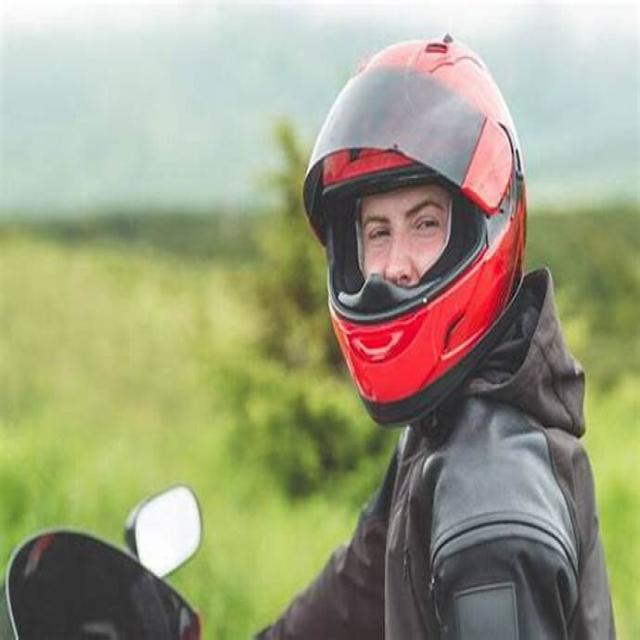helmet: (292, 25, 534, 438)
